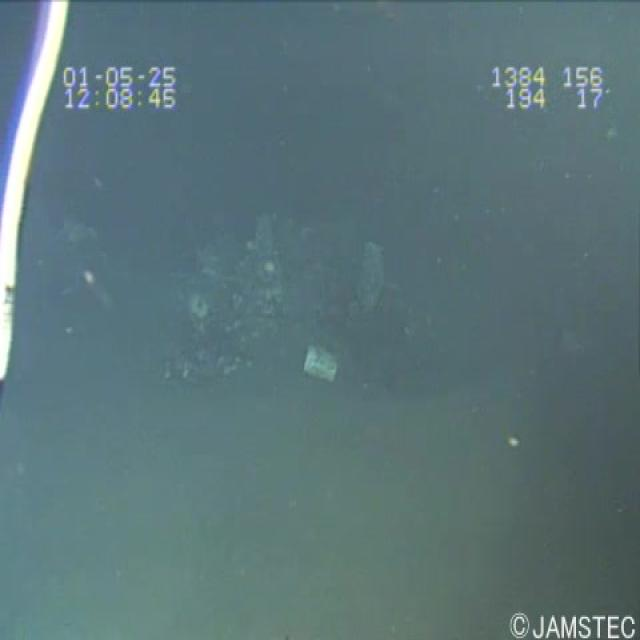plastic: (294, 332, 342, 386)
